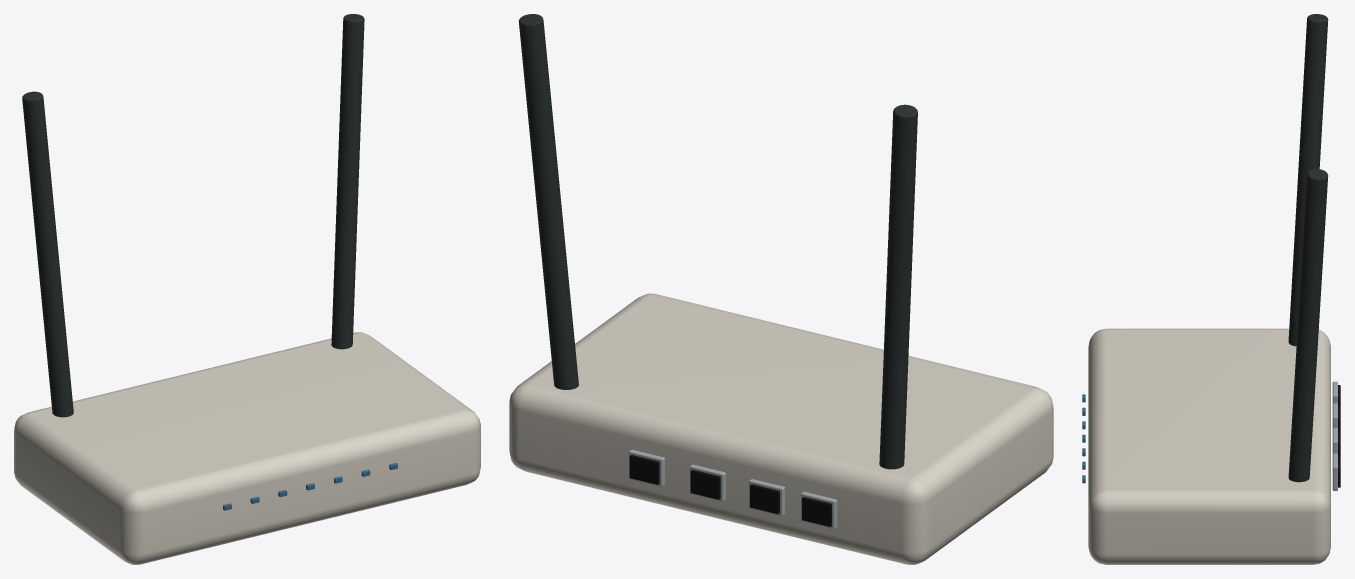
Rendered from router.glb.
3 views of the same model, side by side, from view 1: azimuth 30°, elevation 25°; view 2: azimuth 150°, elevation 25°; view 3: azimuth 270°, elevation 25° (orthographic). The views are drawn at different scales.
Visible parts, largest first — view 1: Router rounded enclosure, Router rear antenna; view 2: Router rounded enclosure, Router rear antenna, Dark connector opening, Port surround; view 3: Router rounded enclosure, Router rear antenna, Port surround.
Part boxes in pixels (x1=…): Router rounded enclosure: x1=14, y1=332, x2=480, y2=564; Router rear antenna: x1=22, y1=14, x2=364, y2=417; Router rounded enclosure: x1=509, y1=293, x2=1053, y2=564; Router rear antenna: x1=518, y1=14, x2=917, y2=469; Dark connector opening: x1=629, y1=455, x2=831, y2=526; Port surround: x1=628, y1=449, x2=837, y2=528; Router rounded enclosure: x1=1088, y1=328, x2=1330, y2=564; Router rear antenna: x1=1288, y1=14, x2=1328, y2=482; Port surround: x1=1332, y1=381, x2=1337, y2=490.
Bounding box in the file's own units: 0.233 × 0.2424 × 0.146.
Materials: 5 (5 with a texture image).
